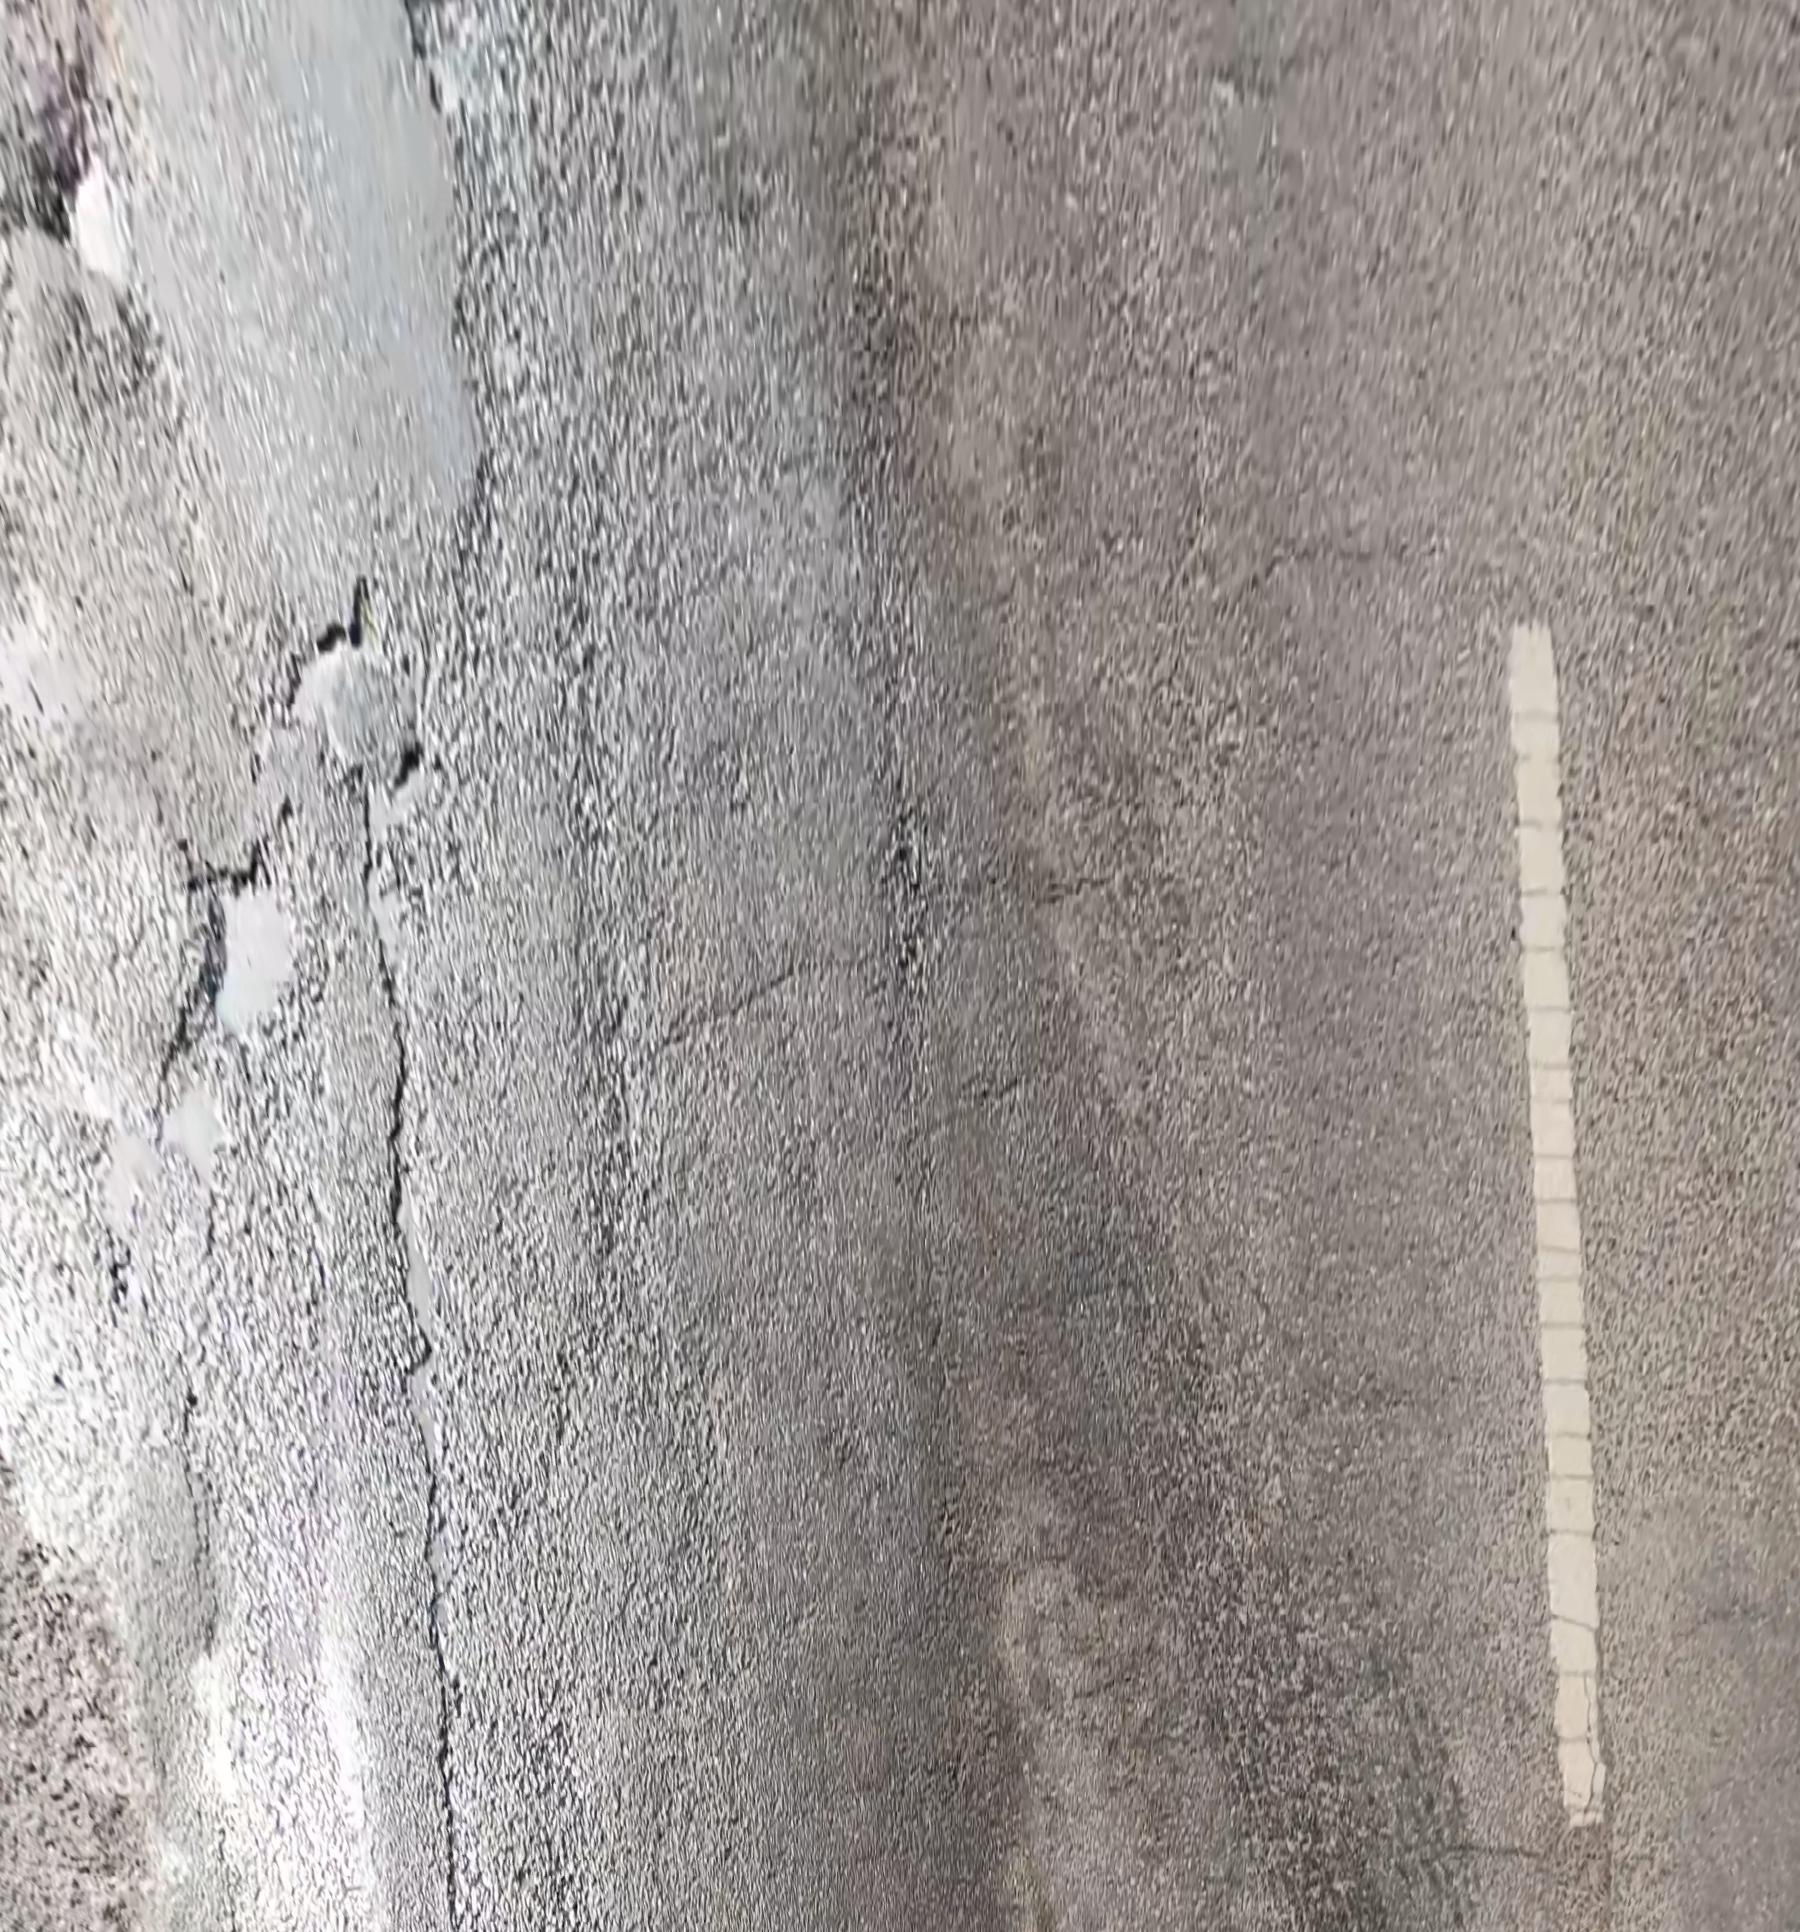pothole: (203, 871, 311, 1044), (66, 145, 134, 301)
pothole_patch_poor: (2, 0, 575, 1932)
